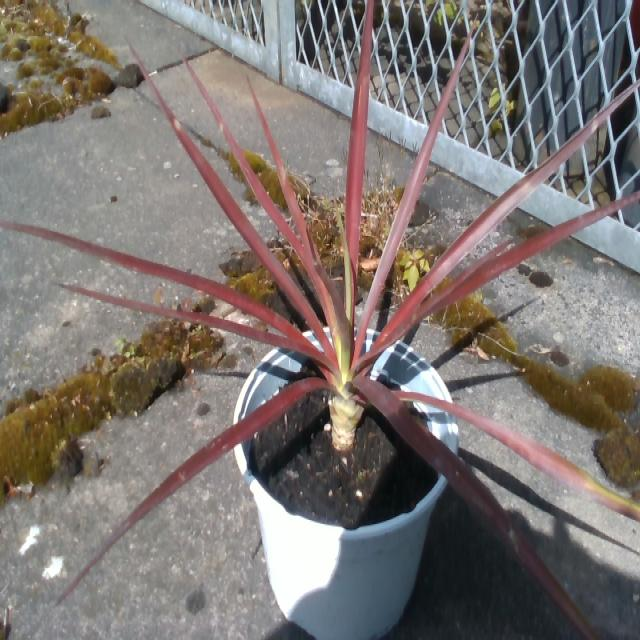Yucca-aloifolia: (374, 81, 639, 355), (356, 380, 599, 639), (57, 379, 327, 603), (132, 48, 320, 335), (0, 221, 301, 345), (394, 391, 639, 520), (364, 35, 470, 328), (418, 192, 639, 320), (184, 60, 301, 252), (249, 81, 343, 319), (63, 284, 328, 363), (346, 1, 372, 276), (419, 243, 509, 309)
